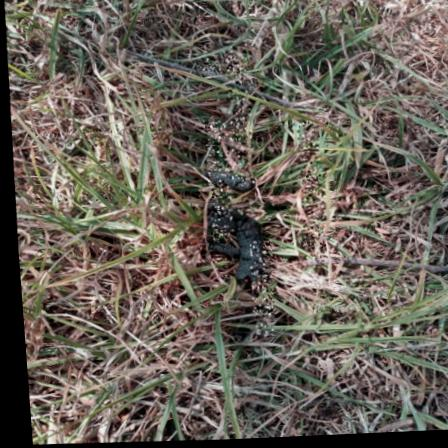dog-poop: (200, 196, 269, 293)
